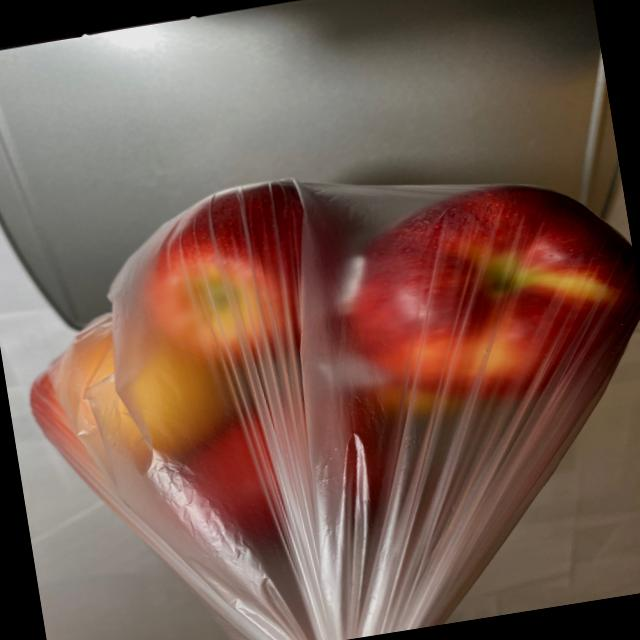apple: (0, 126, 640, 592)
